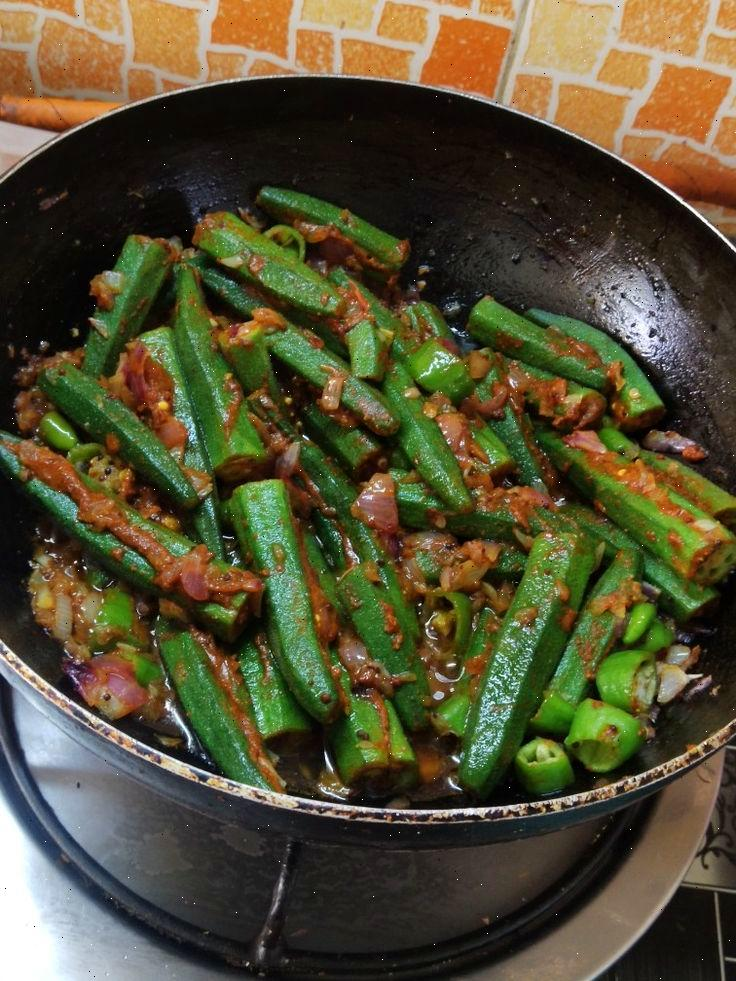bhindi: (4, 322, 736, 708)
